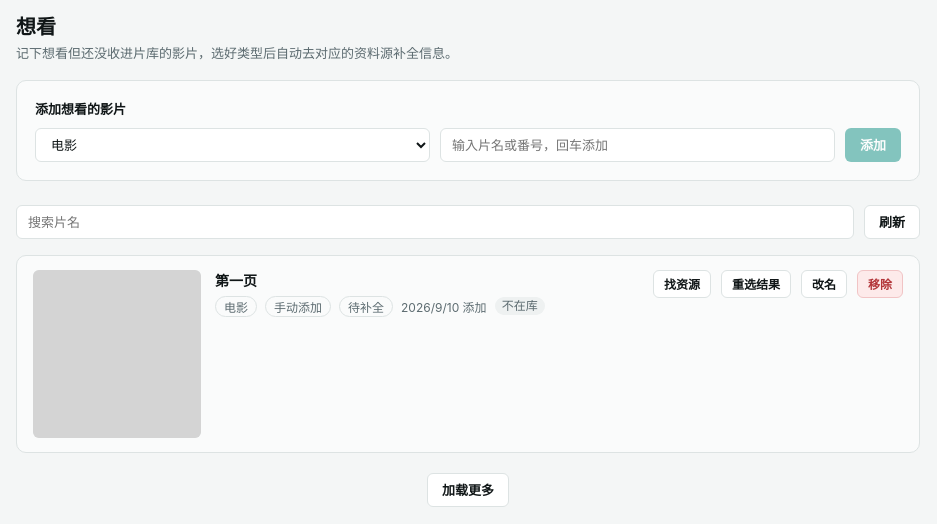
Test: 想看片单 › 移除当前页最后一条后加载剩余页，不误报片单为空
What coordinates should you click on to do the following:
click the button "移除"
I would click on:
 (880, 284)
Its box is [857, 270, 903, 298].
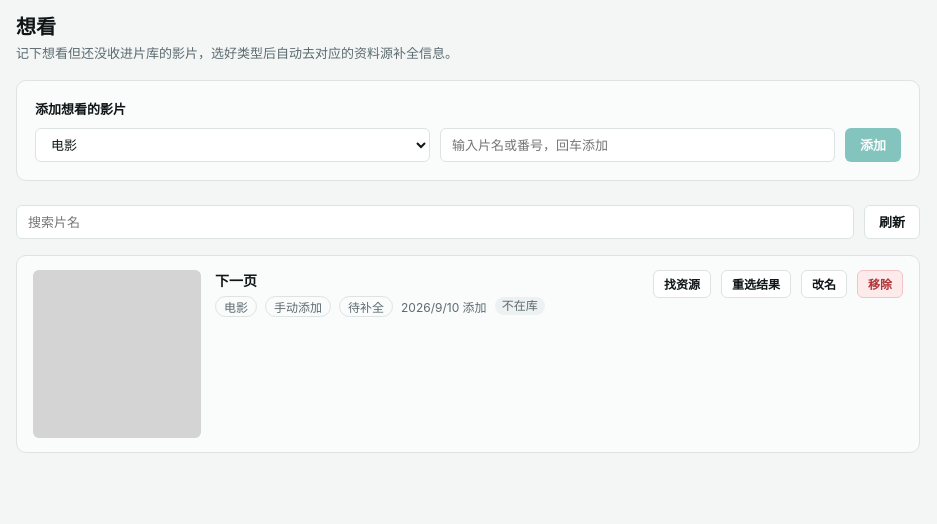
Expected: the list item with test id "watchlist-entry" shows "下一页", [215, 272, 257, 288]
